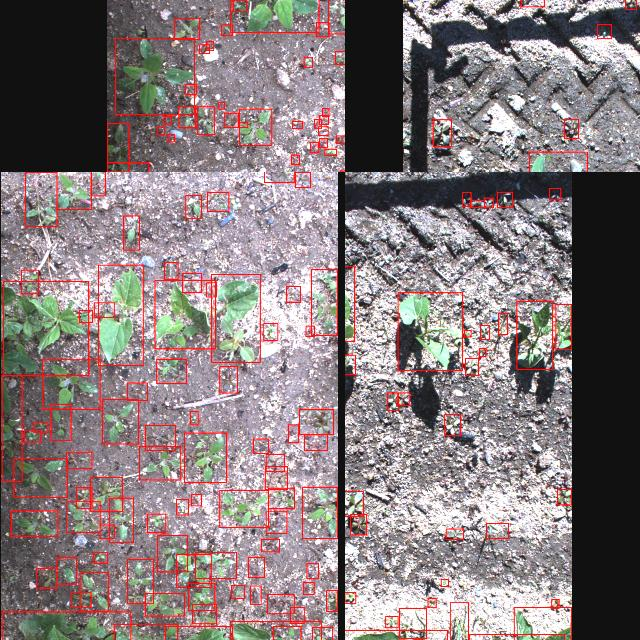crop: (3, 280, 89, 376), (398, 293, 462, 371), (98, 264, 142, 366), (154, 280, 216, 350), (212, 274, 260, 362), (1, 612, 130, 640), (517, 301, 553, 369), (514, 607, 572, 640), (114, 624, 178, 640), (165, 626, 233, 640), (556, 304, 572, 350), (345, 266, 354, 341)
weed: (114, 38, 194, 114), (230, 0, 319, 33), (42, 359, 100, 409), (13, 458, 67, 498), (1, 376, 21, 482), (185, 433, 227, 483), (220, 490, 268, 528), (302, 488, 338, 538), (25, 172, 57, 226), (312, 269, 338, 335), (102, 400, 138, 444), (139, 446, 181, 480), (56, 172, 91, 209), (10, 510, 58, 536), (238, 109, 272, 145), (176, 554, 212, 588), (127, 558, 153, 604), (80, 572, 108, 612), (90, 477, 122, 511), (157, 536, 187, 572), (196, 552, 237, 578), (107, 124, 129, 172), (109, 498, 133, 542), (66, 502, 100, 532), (145, 594, 185, 616), (300, 410, 334, 434), (399, 608, 426, 638), (189, 583, 215, 611), (449, 602, 468, 640), (51, 404, 71, 440), (156, 359, 186, 383), (145, 426, 175, 450), (328, 0, 345, 34), (174, 18, 200, 40), (264, 466, 288, 489), (123, 216, 139, 250), (432, 120, 452, 146), (268, 488, 294, 508), (56, 558, 76, 584), (268, 594, 294, 614), (196, 107, 214, 135), (266, 512, 288, 534), (192, 604, 216, 624), (220, 367, 238, 393), (345, 491, 363, 516), (207, 192, 229, 212), (20, 270, 38, 294), (66, 452, 92, 468), (182, 273, 202, 293), (36, 568, 56, 588), (178, 106, 196, 128), (273, 626, 301, 640), (304, 434, 328, 450), (90, 172, 105, 196), (127, 383, 147, 401), (146, 514, 166, 532), (185, 196, 201, 218), (445, 414, 461, 436), (349, 514, 366, 534), (266, 454, 284, 472), (94, 302, 114, 318), (76, 488, 92, 508), (71, 592, 91, 608), (248, 557, 264, 577), (486, 524, 508, 538), (264, 172, 294, 182), (564, 119, 578, 139), (313, 627, 333, 640), (164, 262, 178, 280), (327, 590, 338, 612), (264, 324, 278, 341), (224, 112, 238, 128), (296, 172, 310, 188), (287, 286, 301, 302), (254, 438, 268, 454), (290, 607, 304, 623), (558, 489, 572, 505), (498, 192, 512, 208), (288, 425, 300, 443), (261, 540, 279, 552), (250, 586, 262, 604), (466, 358, 478, 376), (446, 528, 464, 540), (498, 314, 508, 334), (597, 25, 611, 39), (100, 525, 114, 539), (24, 430, 40, 442), (396, 392, 409, 406), (345, 355, 354, 375), (388, 393, 398, 411), (316, 23, 328, 37), (233, 0, 247, 12), (78, 310, 92, 322), (176, 500, 188, 514), (93, 552, 107, 564), (232, 586, 244, 598), (386, 616, 398, 628), (33, 422, 47, 432), (206, 283, 216, 297), (308, 564, 318, 578), (462, 192, 472, 206), (480, 325, 490, 339), (520, 0, 543, 6), (335, 51, 345, 64), (470, 200, 486, 208), (222, 24, 232, 36), (191, 494, 201, 506), (304, 582, 314, 594), (550, 188, 560, 200), (190, 411, 198, 425), (186, 85, 197, 95), (345, 592, 355, 603), (318, 126, 328, 136), (199, 44, 209, 54), (484, 198, 494, 208), (625, 0, 636, 9), (325, 148, 337, 156), (304, 57, 312, 67), (291, 155, 299, 165), (319, 116, 329, 124), (319, 138, 327, 148), (310, 142, 318, 152), (306, 326, 314, 336), (428, 598, 436, 608), (336, 136, 345, 144), (206, 41, 214, 50), (314, 120, 322, 128), (163, 116, 171, 124), (156, 127, 164, 135), (552, 600, 560, 608), (479, 348, 486, 357), (238, 122, 248, 128), (292, 122, 302, 128), (168, 134, 175, 142), (323, 108, 329, 116), (441, 580, 449, 586), (464, 331, 472, 337), (218, 102, 224, 108)
